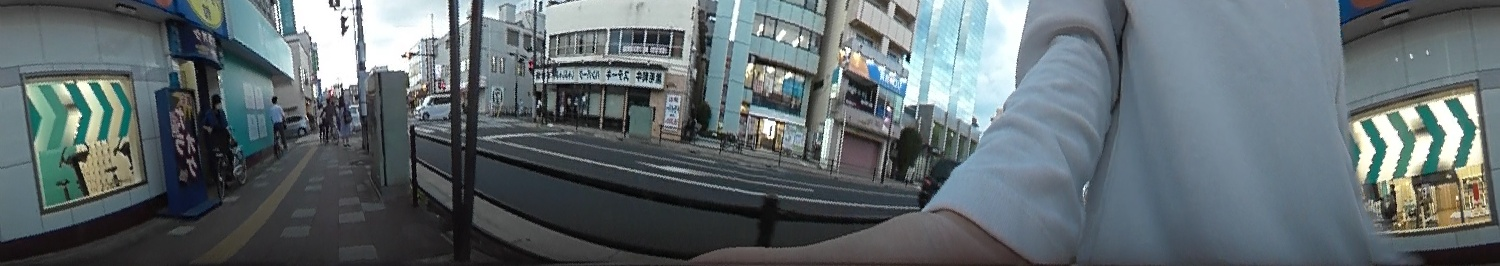difficult_person: (334, 95, 356, 148), (316, 95, 336, 142), (532, 95, 544, 121)
person: (191, 88, 239, 190), (262, 91, 293, 159)
